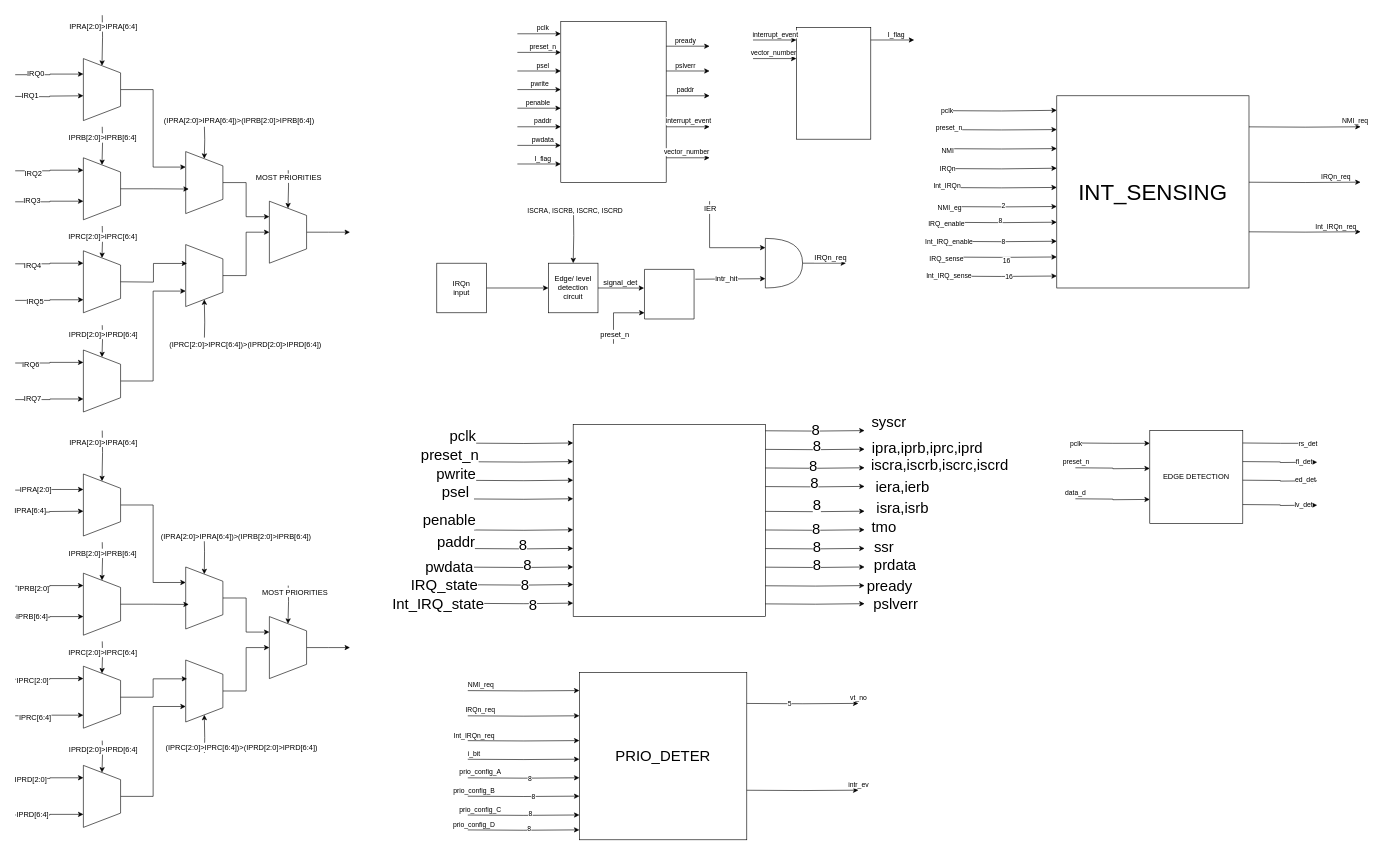
Image size: 1379x851. Some labels were removed from this diagram. The shapes that lost their labels are listed below. From the top down, each one's box as (x1, y1, x2, y2) in pixels, then its label:
(560, 21, 666, 183): INTERRUPT CONTROLLER
(796, 27, 871, 139): RISC_V
(573, 424, 765, 617): APB_RW
